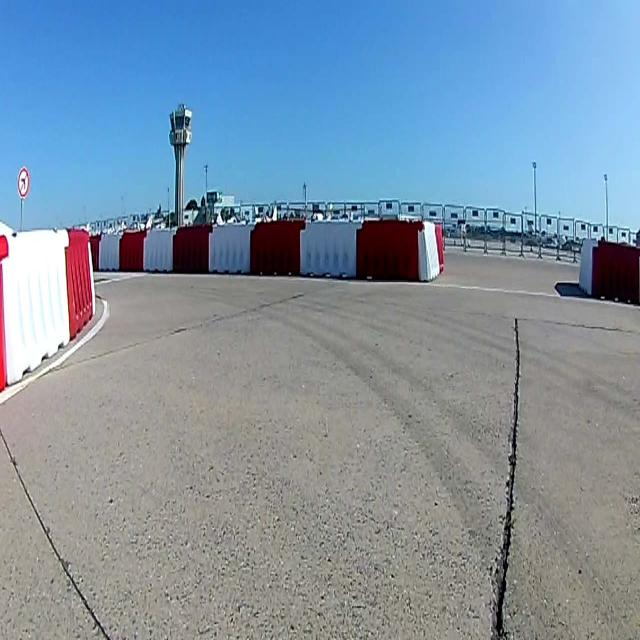soladonulmez: (18, 167, 30, 197)
